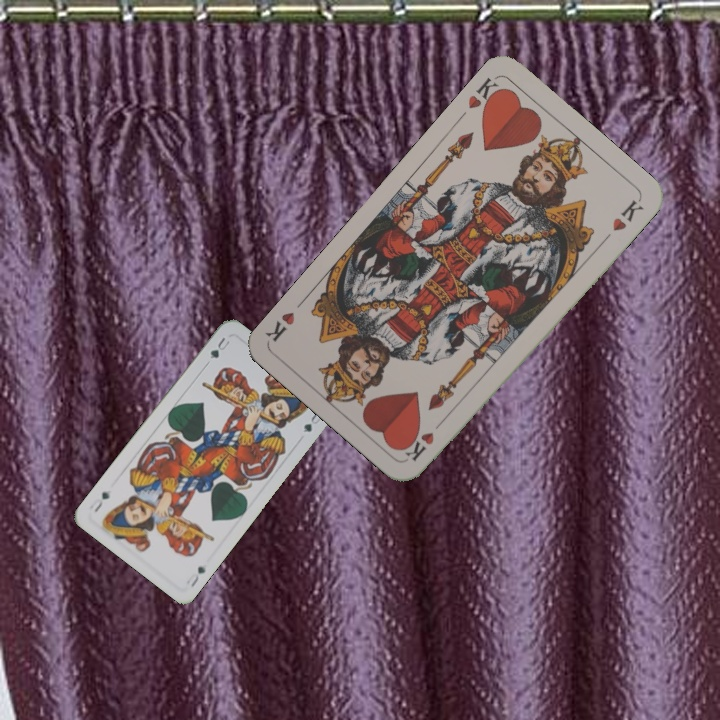GU: (206, 333, 234, 361), (182, 562, 208, 591)
HK: (402, 413, 449, 464), (463, 73, 507, 117)
